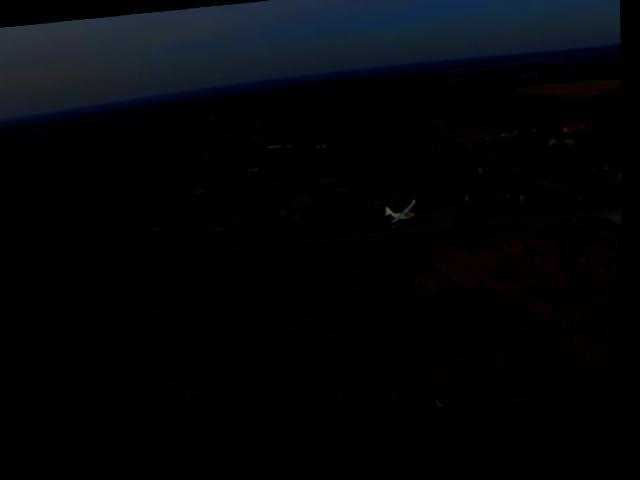uav: (377, 193, 431, 236)
